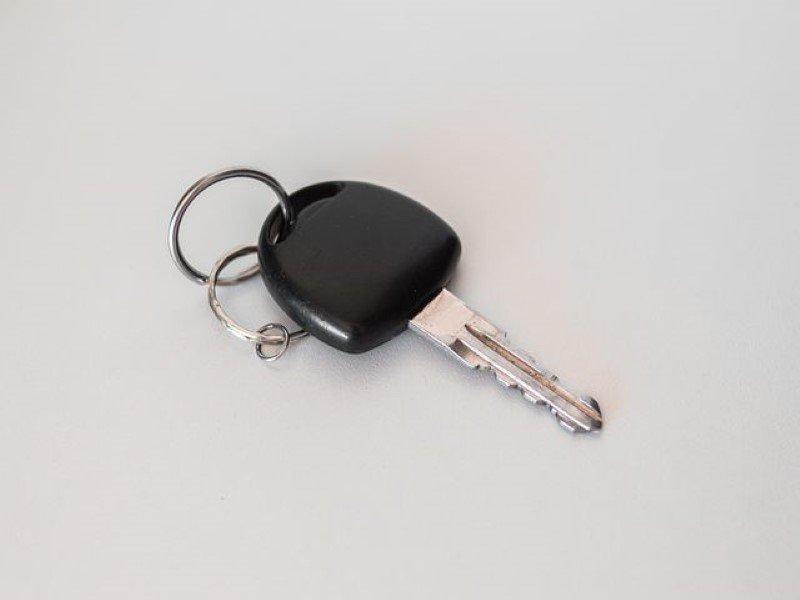key: (246, 167, 614, 443)
